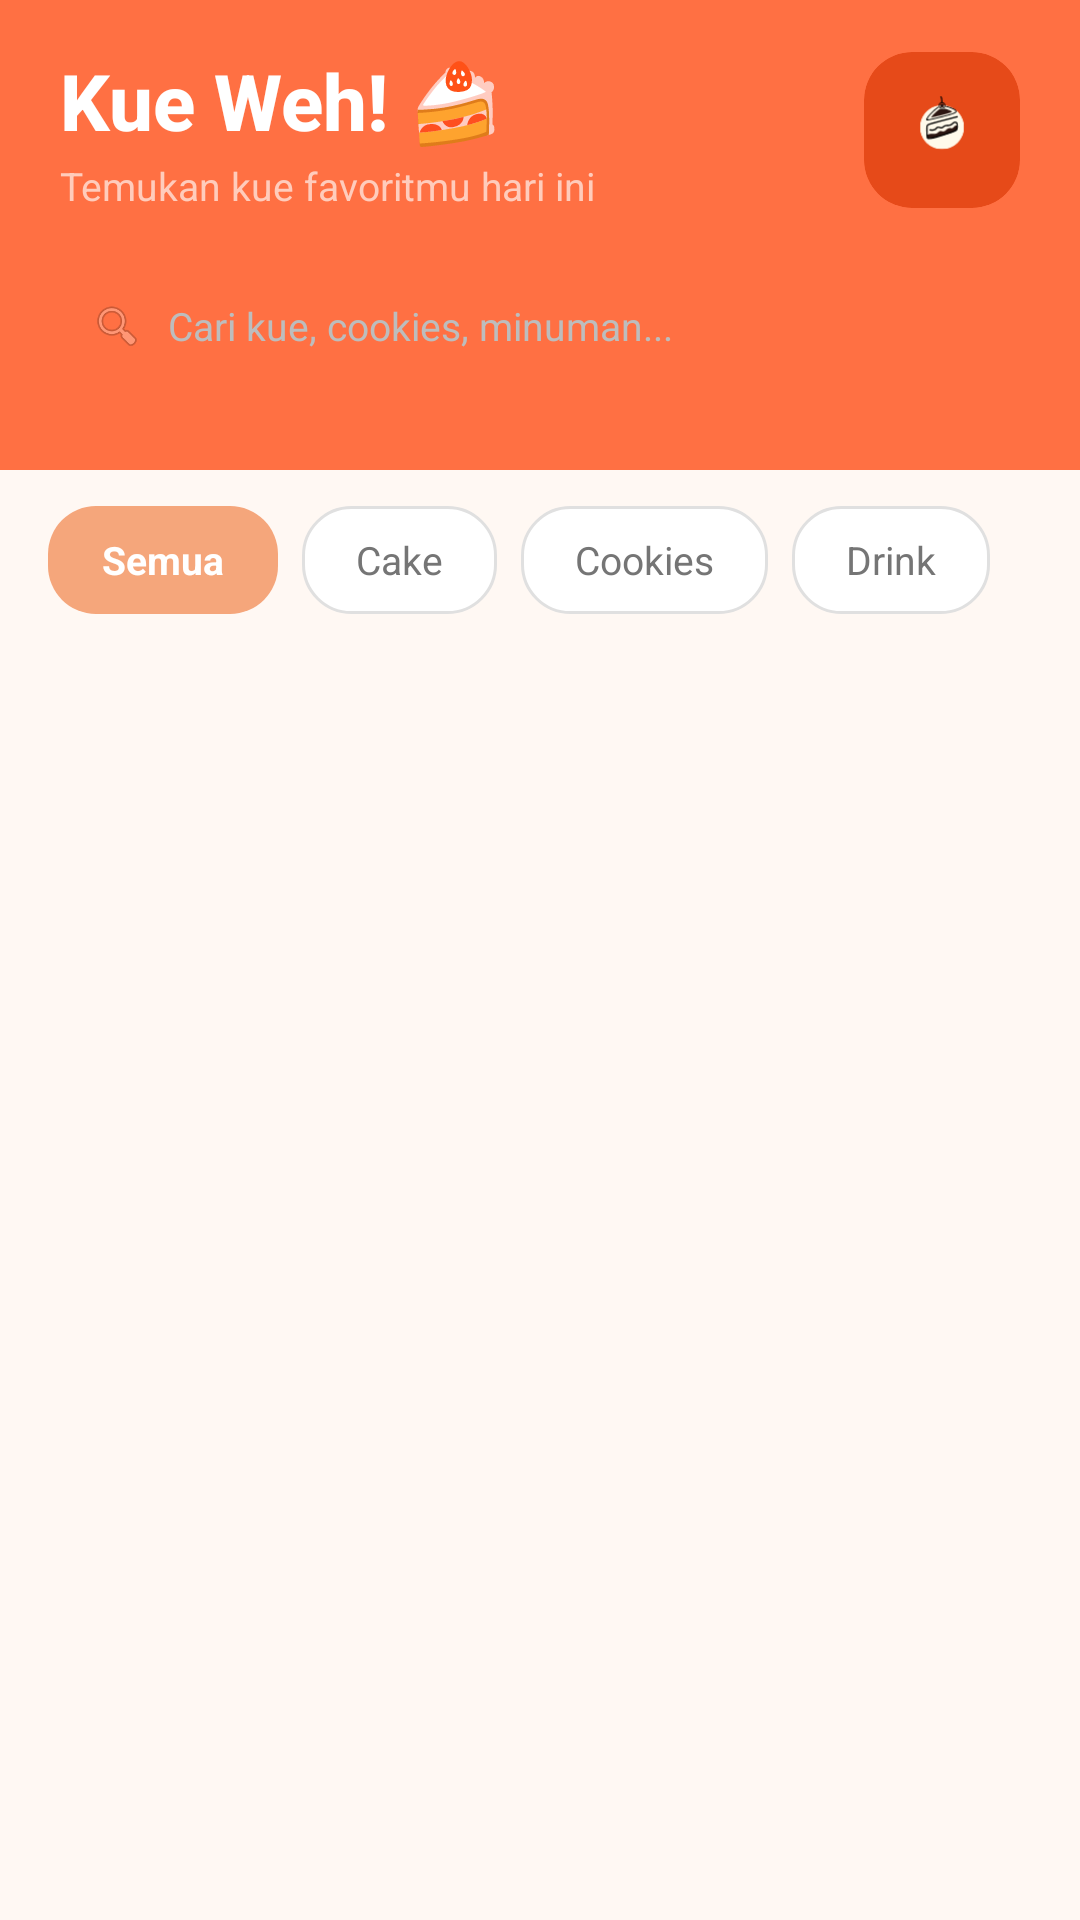

Where to tap for icons on this 1080×1920 app screen, as (x,y):
search: (117,326)
